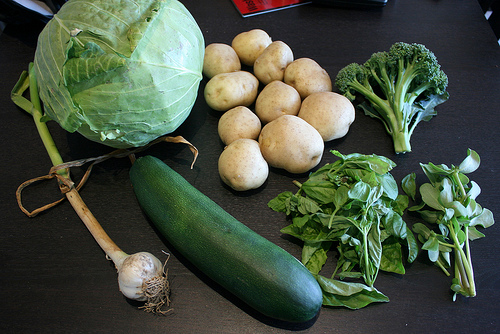cabbage: (29, 1, 207, 154)
